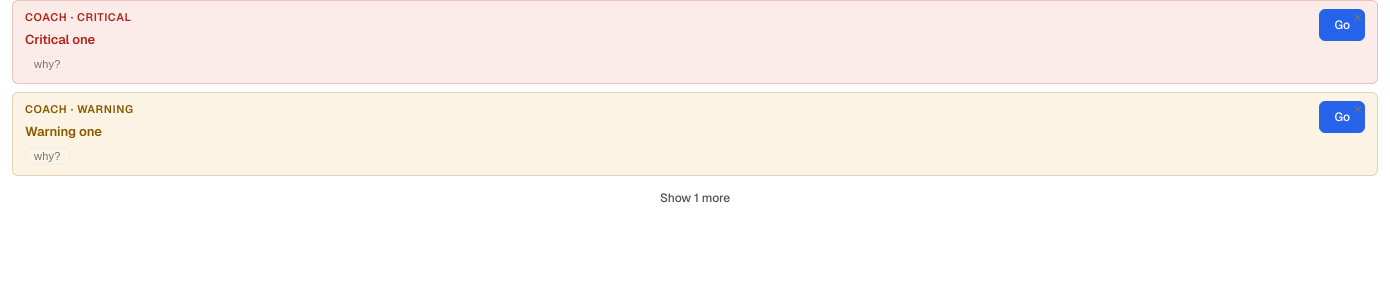
Test: CoachNotices › shows the most severe first, limits to maxVisible with a Show more link
This screenshot has width=1390, height=285.
Expected: the element with test id "coach-notices-data" shows "Critical one", [25,31,95,48]
Expected: the element with test id "coach-notices-data" shows "Warning one", [25,123,102,140]
Click the button with test id "coach-notices-more". click: click(695, 198)
box: [12,184,1378,212]
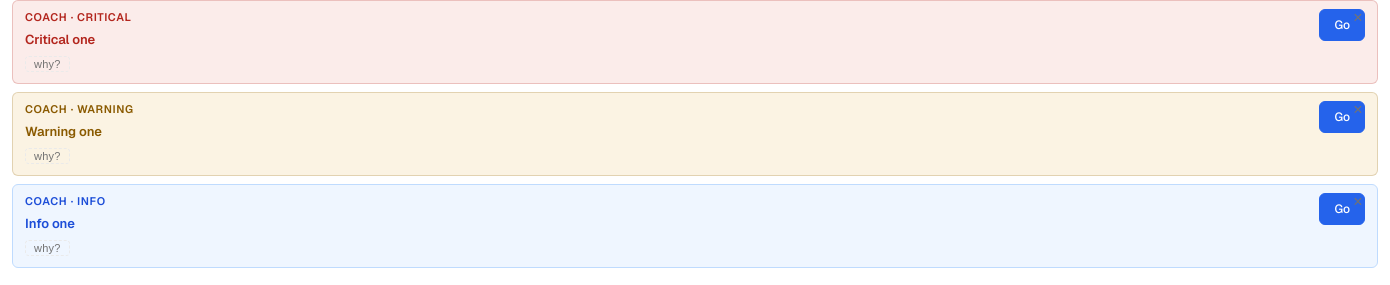
Now the text "Info one" is shown, box [25,215,75,232]
